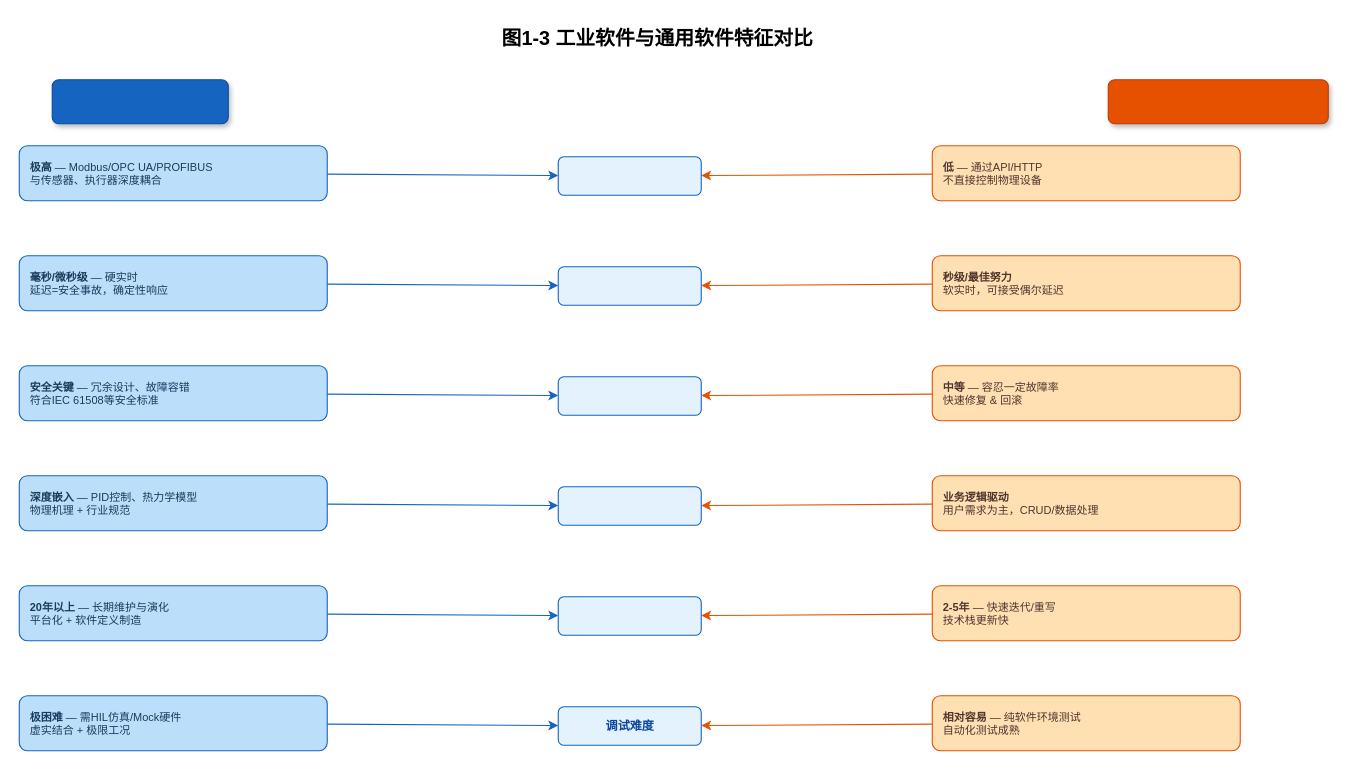
Image size: 1354x770. Some labels were removed from this diagram. Each missing label, with the centre of its shape:
可靠性: point 629,395
实时性要求: point 629,285
工业软件: point 141,102
生命周期: point 629,615
硬件集成度: point 629,175
通用/互联网软件: point 1219,102
领域知识: point 629,505
